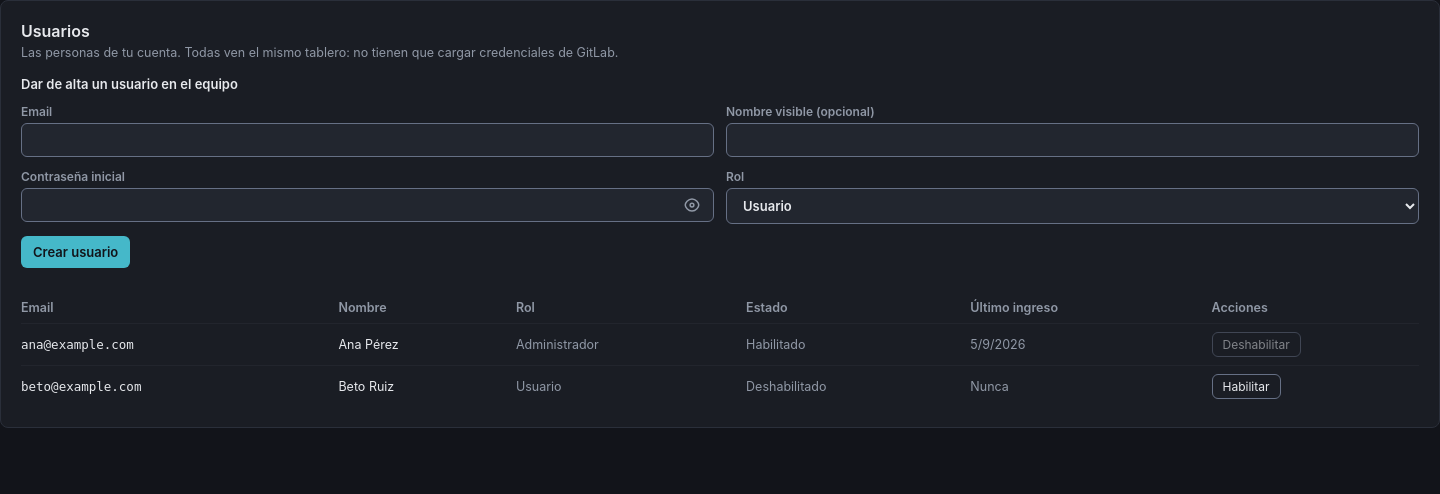
Test: alta de usuarios › muestra el error del backend y conserva lo escrito
Step 1. Type "zoe@example.com" into the field labelled "Email" → [368, 140], box x1=21 y1=123 x2=714 y2=157
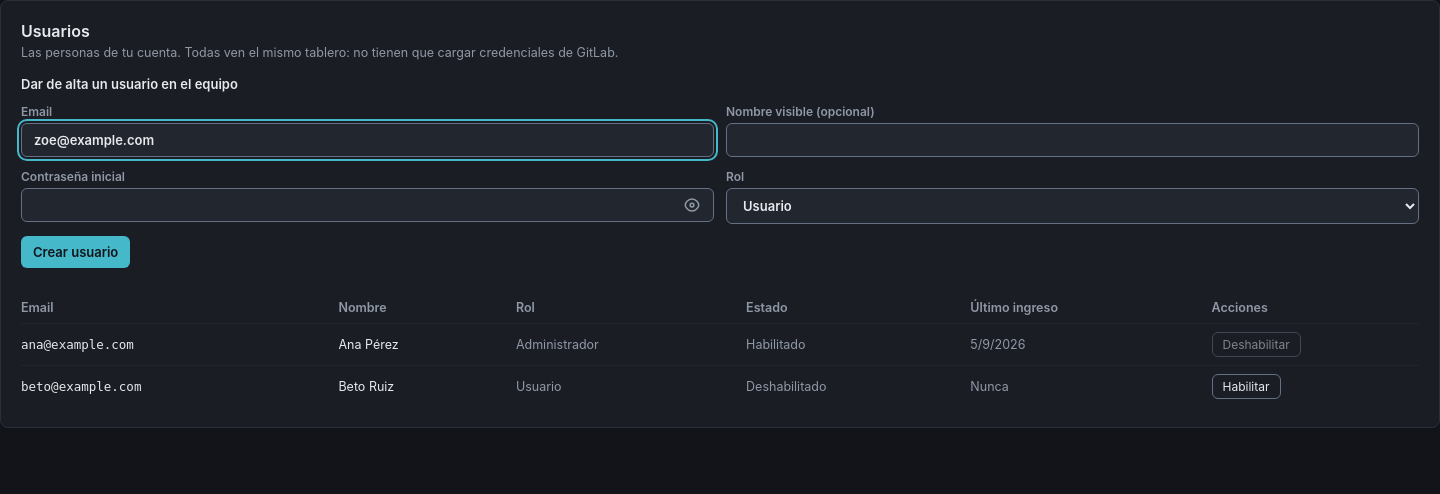
Step 2. Type "contrasena-de-prueba" into the password field labelled "Contraseña inicial" → [368, 205], box x1=21 y1=188 x2=714 y2=222
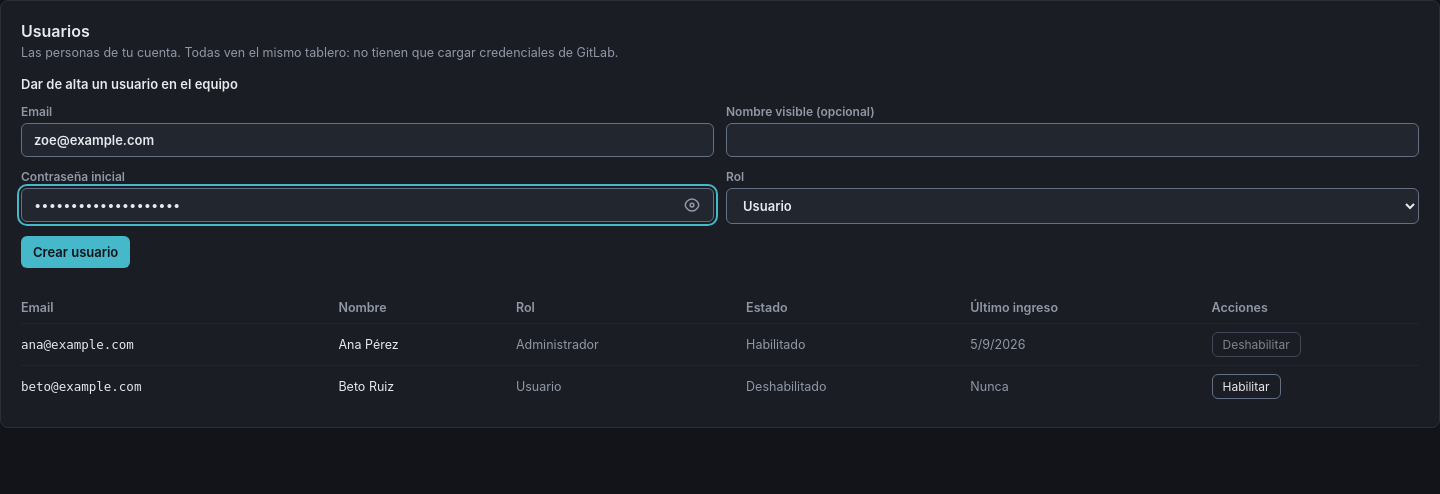
Step 3. Click the button "Crear usuario" → [76, 252], box x1=21 y1=236 x2=130 y2=268
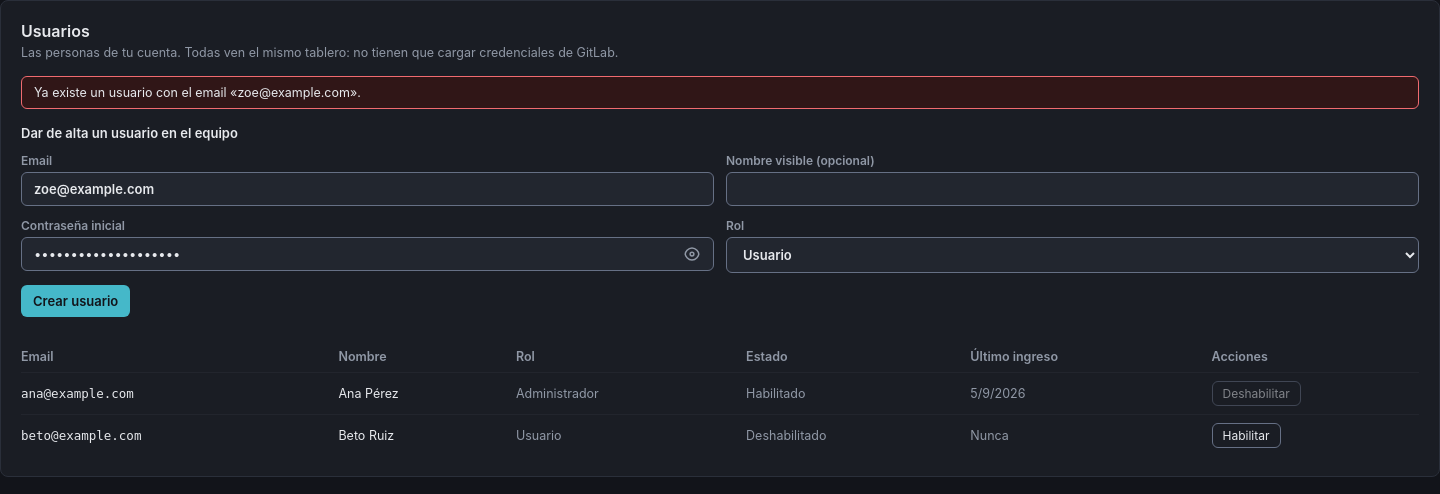
Expected: the message reads "Ya existe un usuario con el email «zoe@example.com».", x1=34 y1=85 x2=361 y2=100
